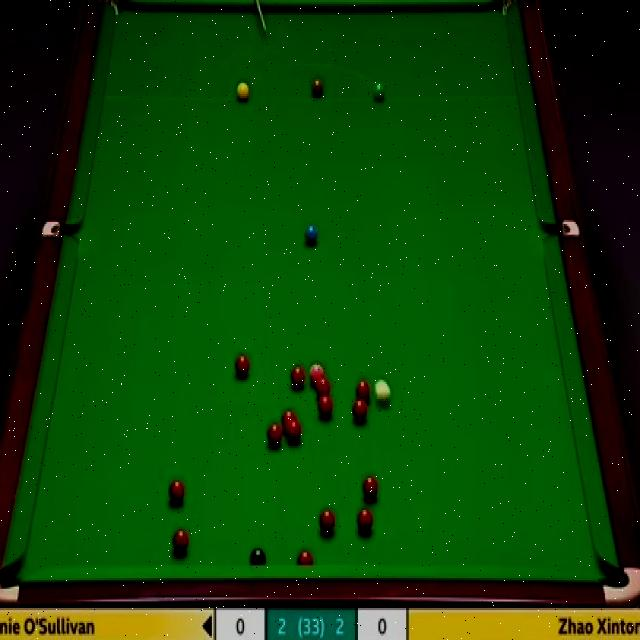black-ball: (249, 544, 266, 569)
blue-ball: (305, 225, 319, 246)
brown-ball: (310, 80, 324, 101)
green-ball: (371, 80, 387, 103)
pink-ball: (308, 360, 324, 385)
red-ball: (356, 506, 374, 535), (167, 478, 186, 505), (361, 474, 379, 502), (171, 527, 189, 553), (233, 352, 250, 379), (319, 507, 336, 534), (316, 395, 333, 421), (266, 422, 283, 447), (289, 364, 306, 389), (352, 398, 368, 423), (286, 418, 302, 442), (354, 379, 370, 402), (315, 378, 331, 398), (296, 549, 313, 566), (282, 409, 296, 428)
white-ball: (374, 378, 393, 410)
yellow-ball: (236, 79, 249, 102)
